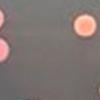orange: (72, 12, 98, 39)
pink: (0, 38, 11, 63), (0, 8, 6, 31)
